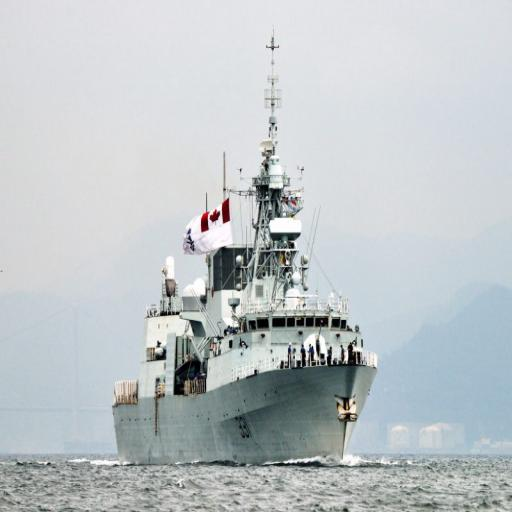Fragata: (111, 8, 383, 477)
